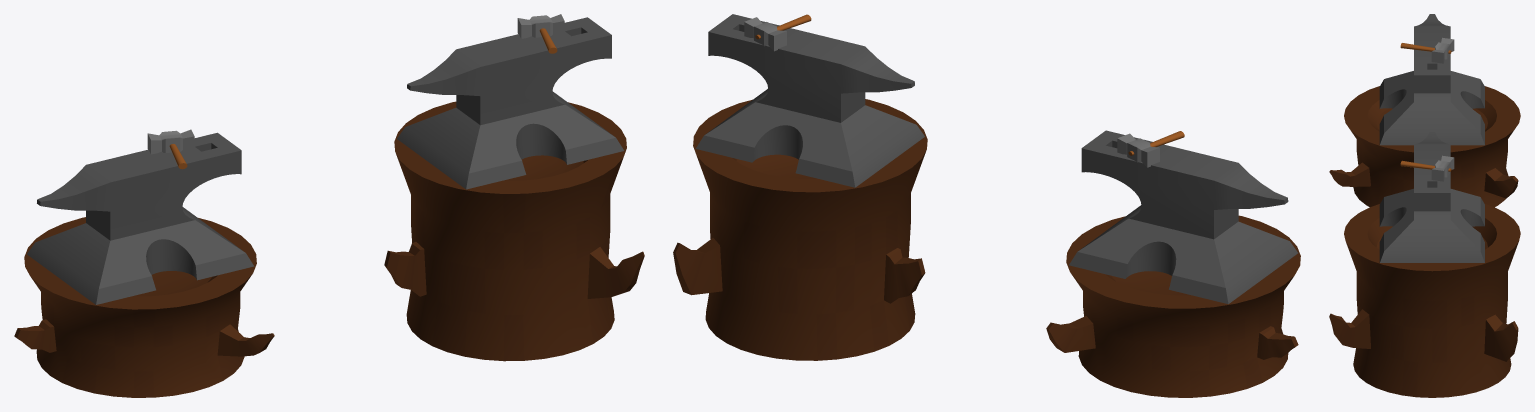
File: anvil.fbx
3 renders of one model, left to right at view 1: azimuth 30°, elevation 25°; view 2: azimuth 150°, elevation 25°; view 3: azimuth 270°, elevation 25°, orthographic. The views are drawn at different scales.
Parts seen in each view (by area): view 1: Cylinder, Cylinder.001, Cylinder.002; view 2: Cylinder, Cylinder.001, Cylinder.002; view 3: Cylinder.001, Cylinder, Cylinder.002.
Part boxes in pixels (x1,y1,x2,y2): Cylinder: [14, 129, 274, 397]; Cylinder.001: [384, 101, 644, 361]; Cylinder.002: [397, 14, 624, 189]; Cylinder: [1046, 130, 1300, 397]; Cylinder.001: [673, 99, 927, 360]; Cylinder.002: [695, 14, 924, 187]; Cylinder.001: [1329, 204, 1520, 397]; Cylinder: [1329, 14, 1520, 207]; Cylinder.002: [1379, 132, 1484, 262].
Bounding box in the file's own units: 745 × 342 × 276.
